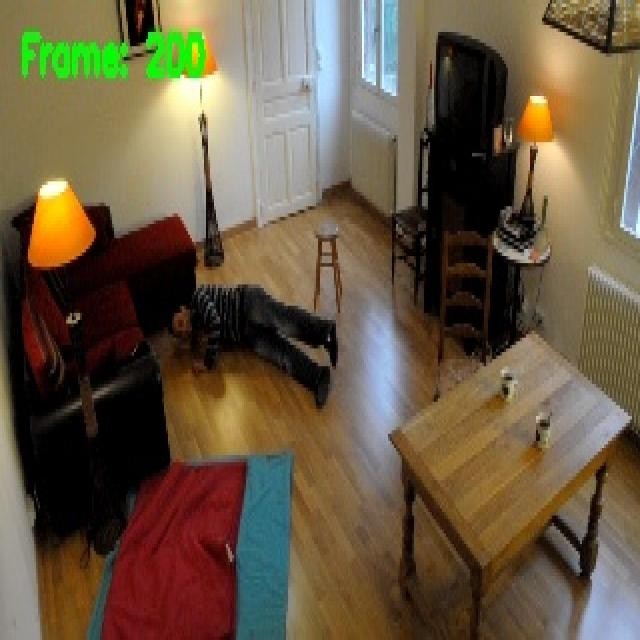Fall-Detected: (163, 276, 342, 410)
